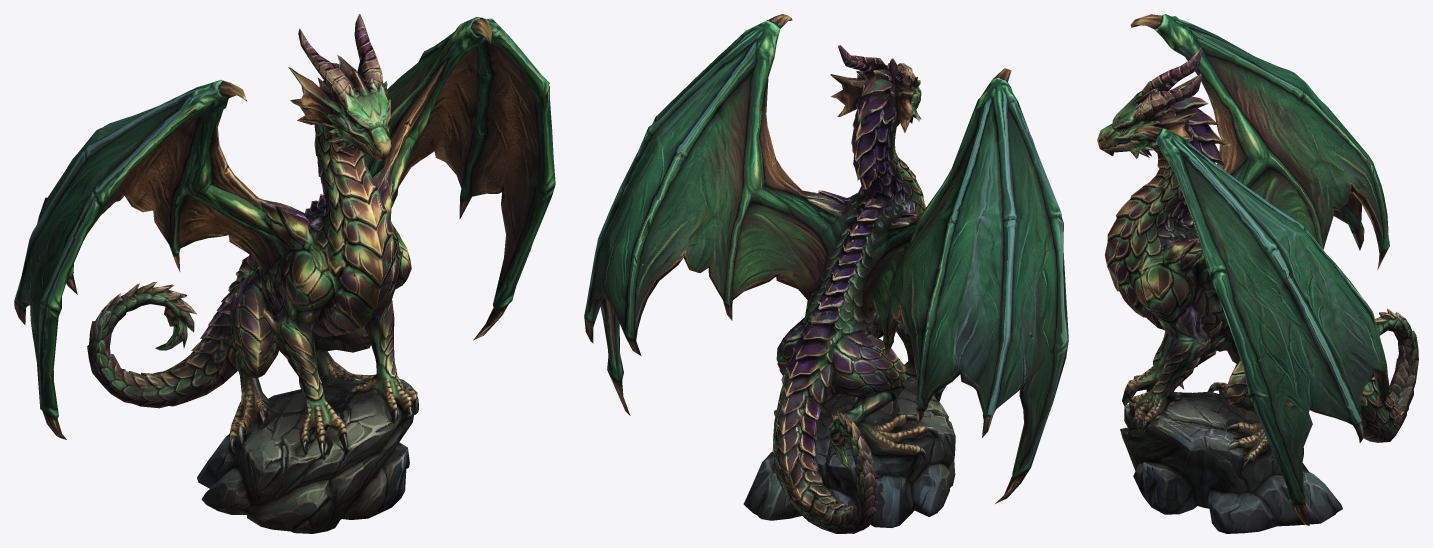
Rendered from mf_leviathan.glb.
The picture shows the model from 3 angles, left to right: view 1: azimuth 30°, elevation 25°; view 2: azimuth 150°, elevation 25°; view 3: azimuth 270°, elevation 25°; orthographic projection. The views are drawn at different scales.
Visible parts, largest first — view 1: Model; view 2: Model; view 3: Model.
Part boxes in pixels (x1,y1,x2,y2): Model: (14, 14, 555, 533); Model: (584, 14, 1068, 533); Model: (1097, 14, 1418, 533).
Bounding box in the file's own units: 1.89 × 1.68 × 1.14.
Materials: 1 (1 with a texture image).
